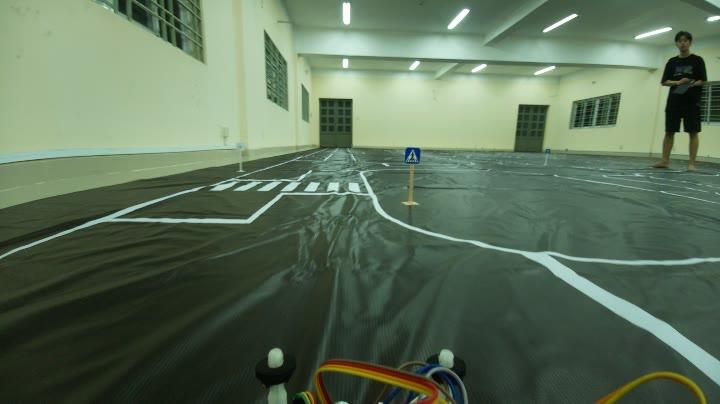crosswalk: (399, 142, 426, 174)
